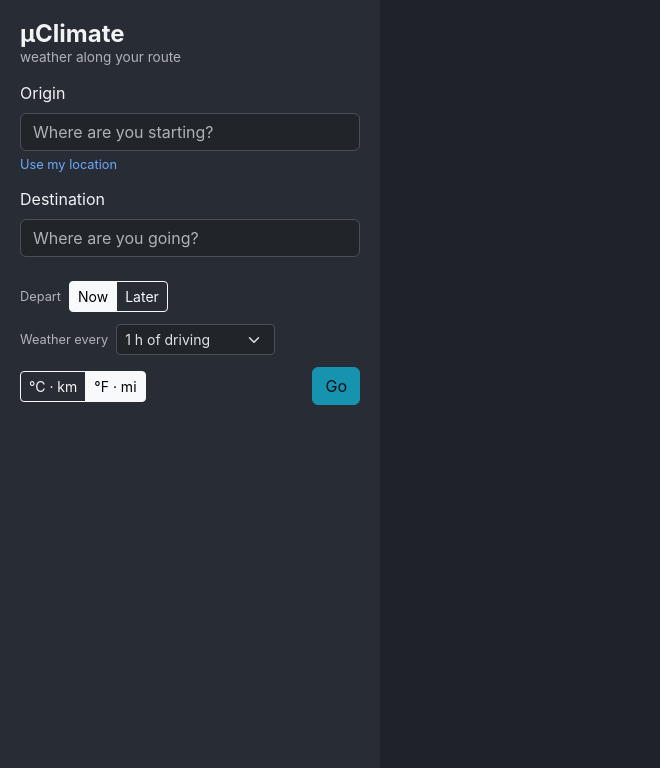
App › plans a trip and lists the weather at each stop
Click the radio button labelled "°C · km": (26, 377) x1=20 y1=371 x2=33 y2=384
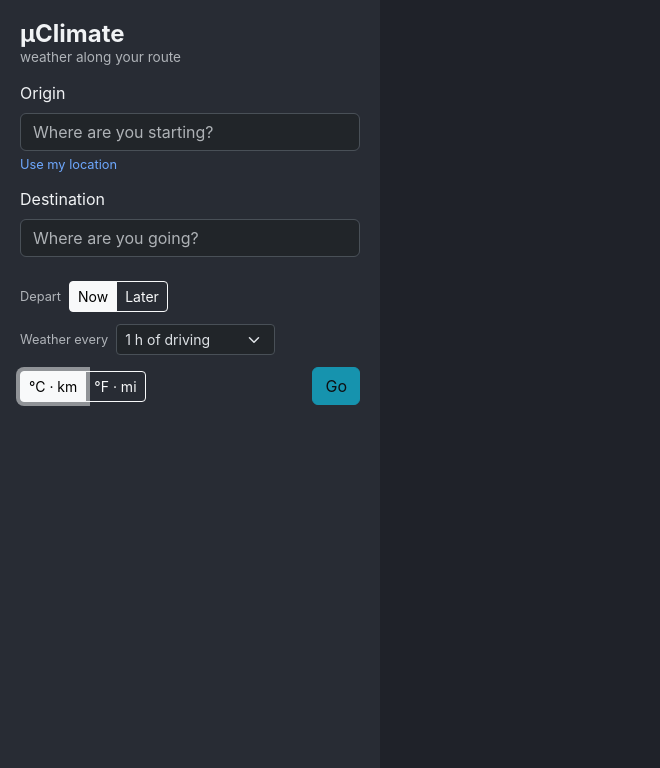
In the dropdown labelled "Origin": (190, 132) x1=20 y1=113 x2=360 y2=151, type "San"
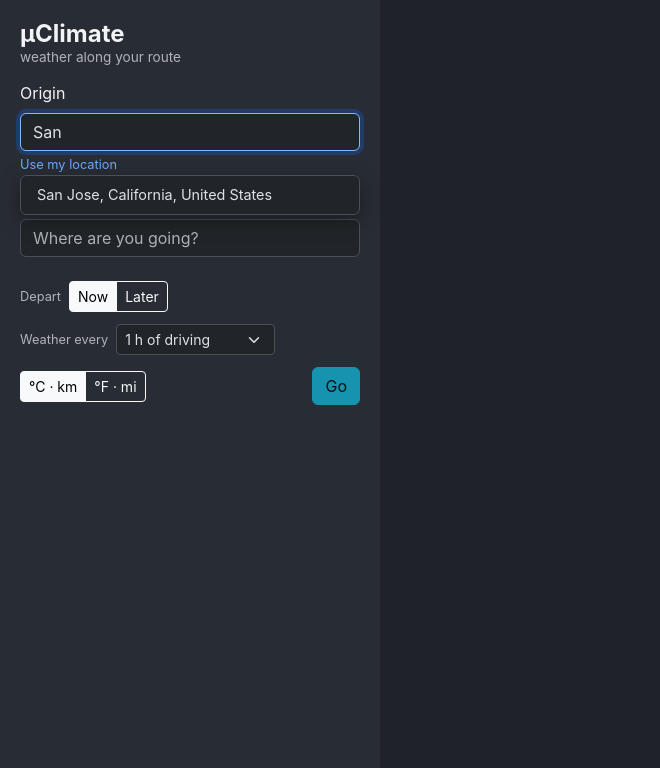
Click the option "San Jose, California, United States": (190, 195) x1=20 y1=175 x2=360 y2=215
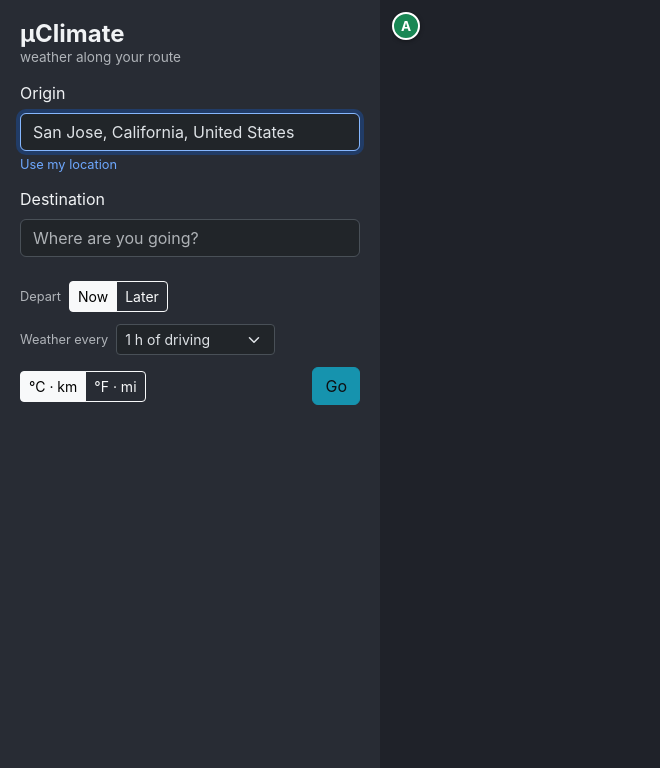
In the dropdown labelled "Destination": (190, 238) x1=20 y1=219 x2=360 y2=257, type "Los"
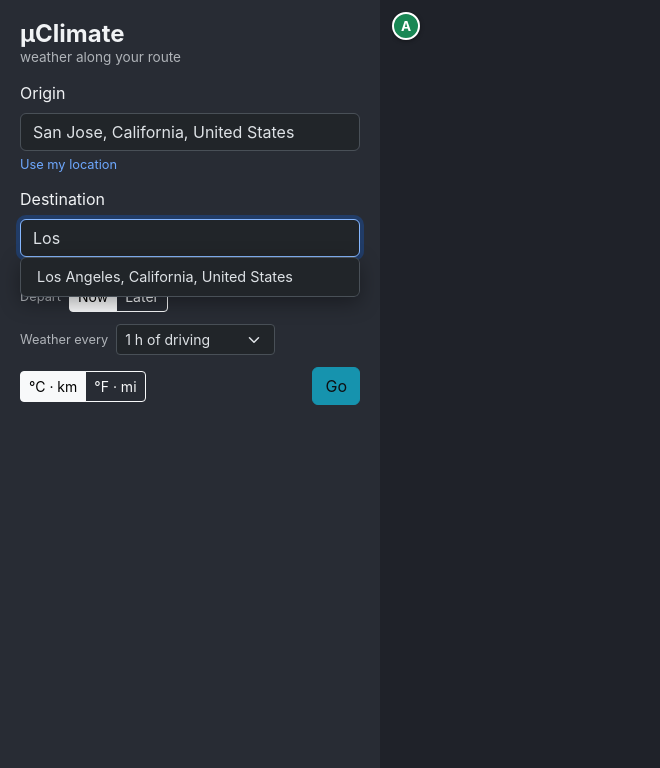
Click the option "Los Angeles, California, United States": (190, 277) x1=20 y1=257 x2=360 y2=297
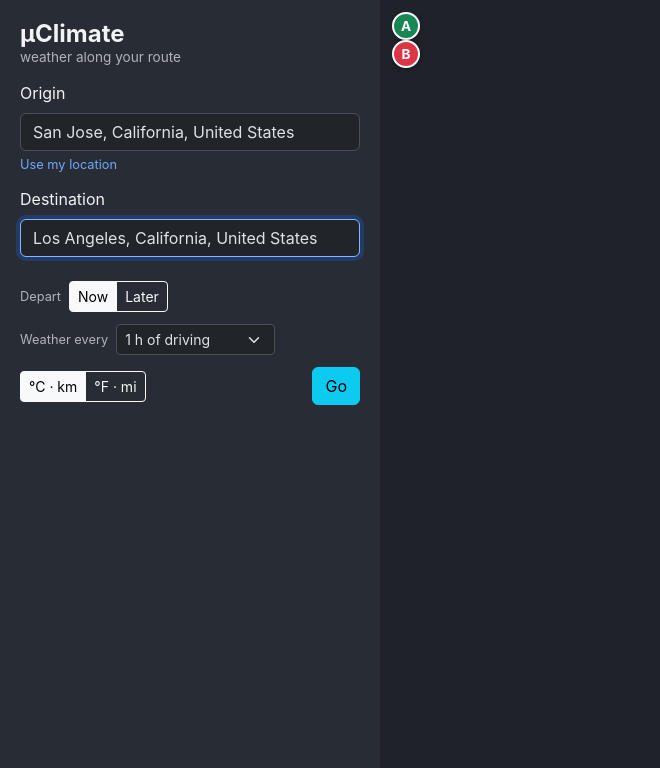
Click the button "Go": (336, 386) x1=312 y1=367 x2=360 y2=405
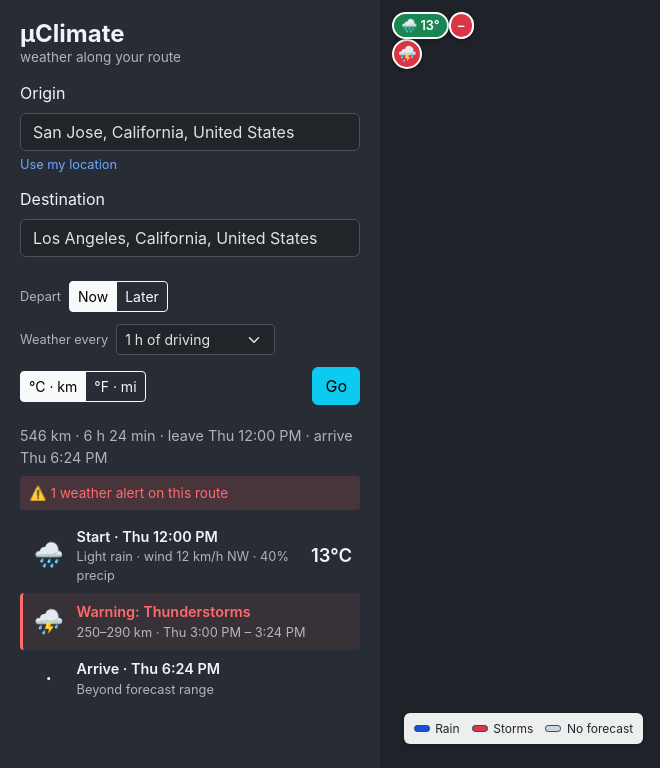
expect the text "546 km · 6 h 24 min" is shown: met, box x1=20 y1=425 x2=360 y2=468
expect the text "13°C" is shown: met, box x1=311 y1=542 x2=352 y2=569
expect the text "Light rain · wind 12 km/h NW · 40% precip" is shown: met, box x1=77 y1=547 x2=299 y2=586
